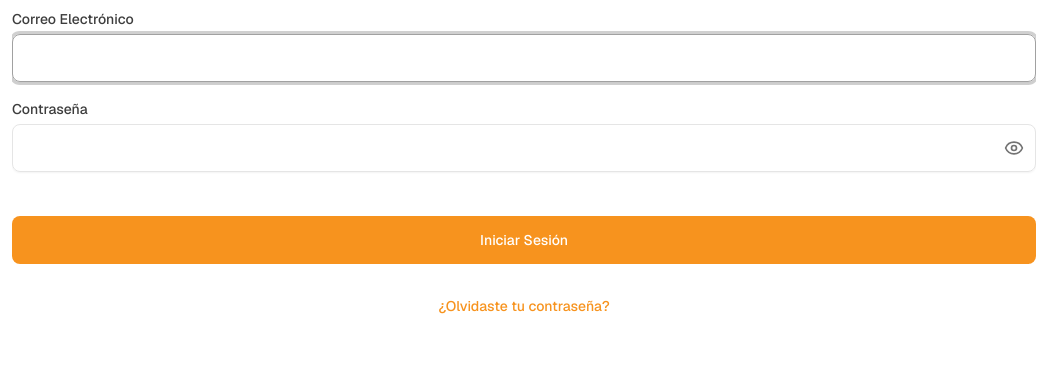
Test: LoginForm › Form Validation › shows error when email is empty
What coordinates should you click on to do the following:
click the button "Iniciar Sesión"
I would click on:
 (524, 240)
Its box is 12,216 -> 1036,264.
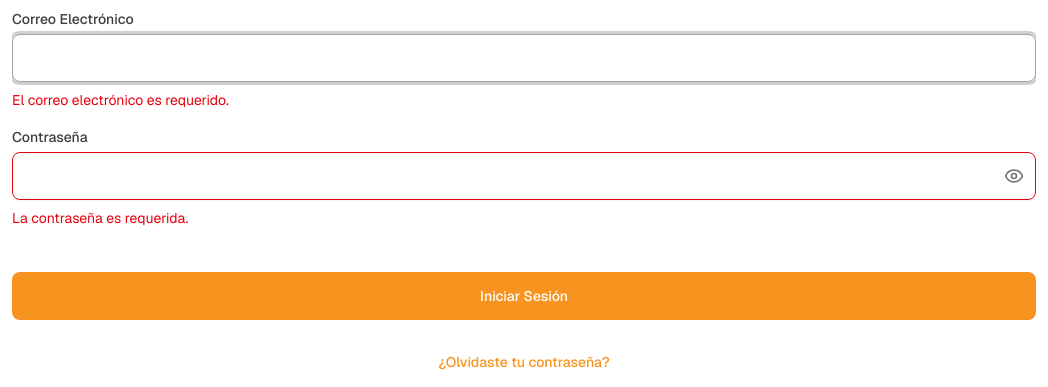
Expected: the text "El correo electrónico es requerido." is shown, 12,91 -> 229,109
